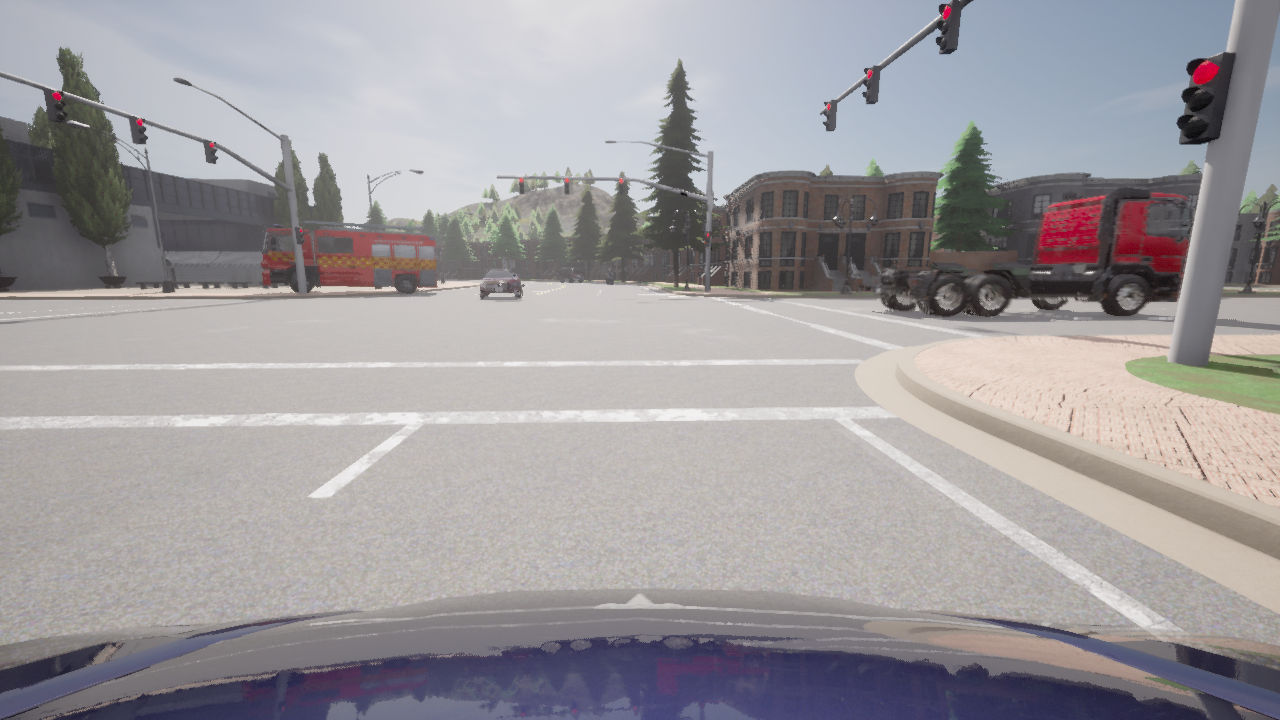cyclist: (0, 588, 1279, 719), (858, 186, 1191, 317), (260, 220, 436, 293), (476, 268, 521, 299), (558, 267, 582, 282), (606, 274, 611, 284)
pedestrian: (837, 260, 854, 291), (891, 259, 898, 269)
